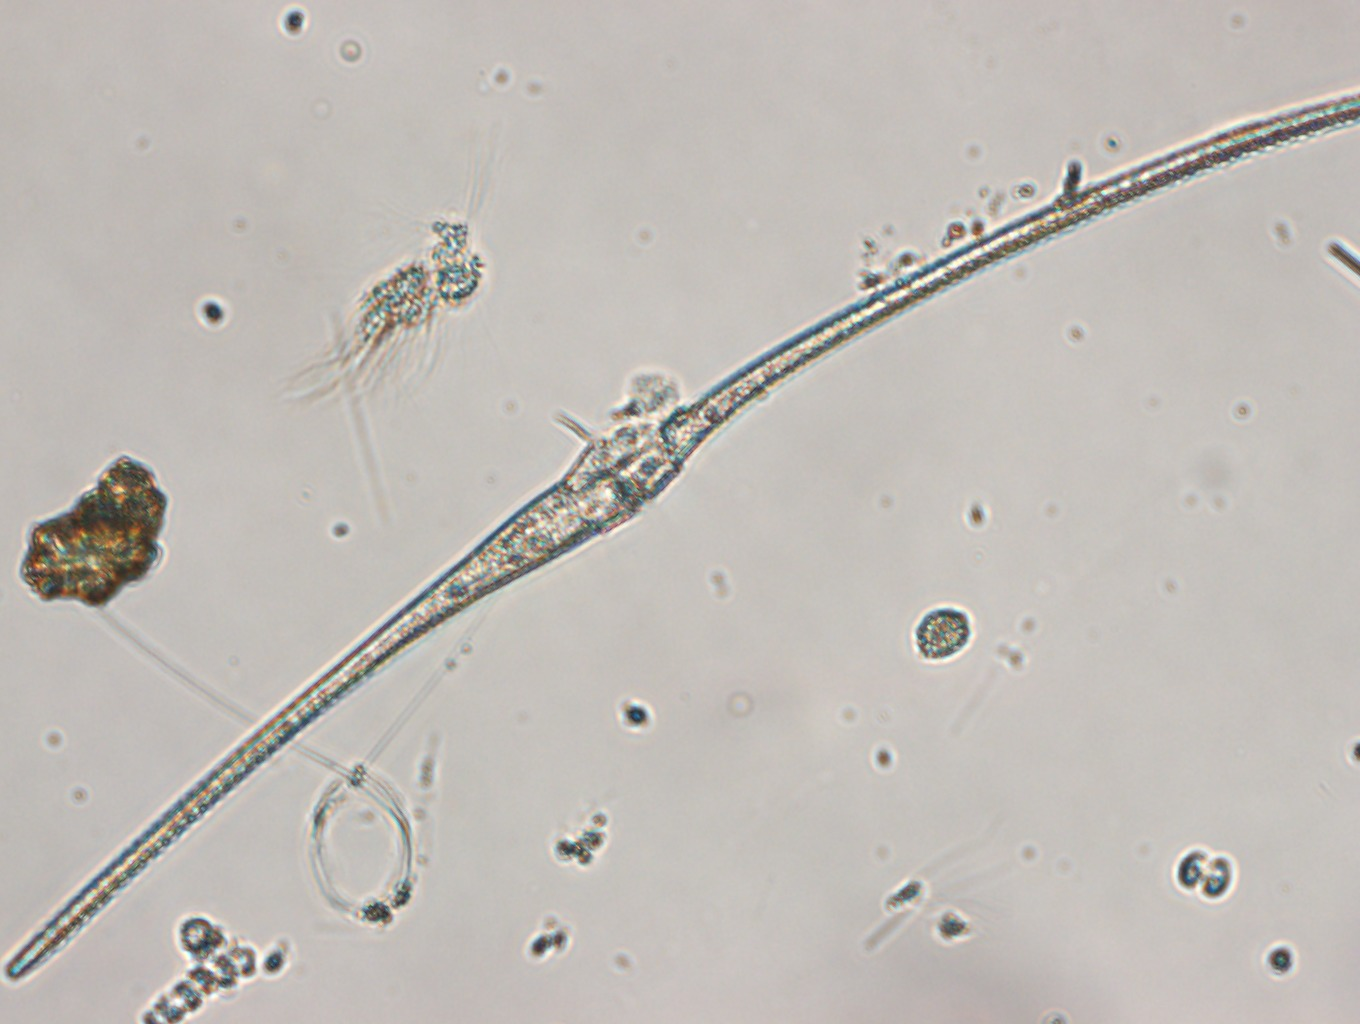ceratium fusus: (8, 79, 1360, 986)
